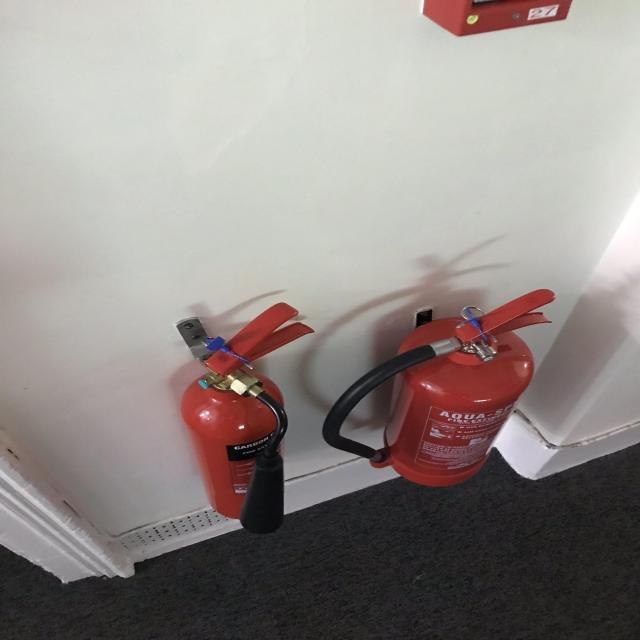fire_extinguisher: (314, 286, 558, 490), (175, 301, 320, 538)
